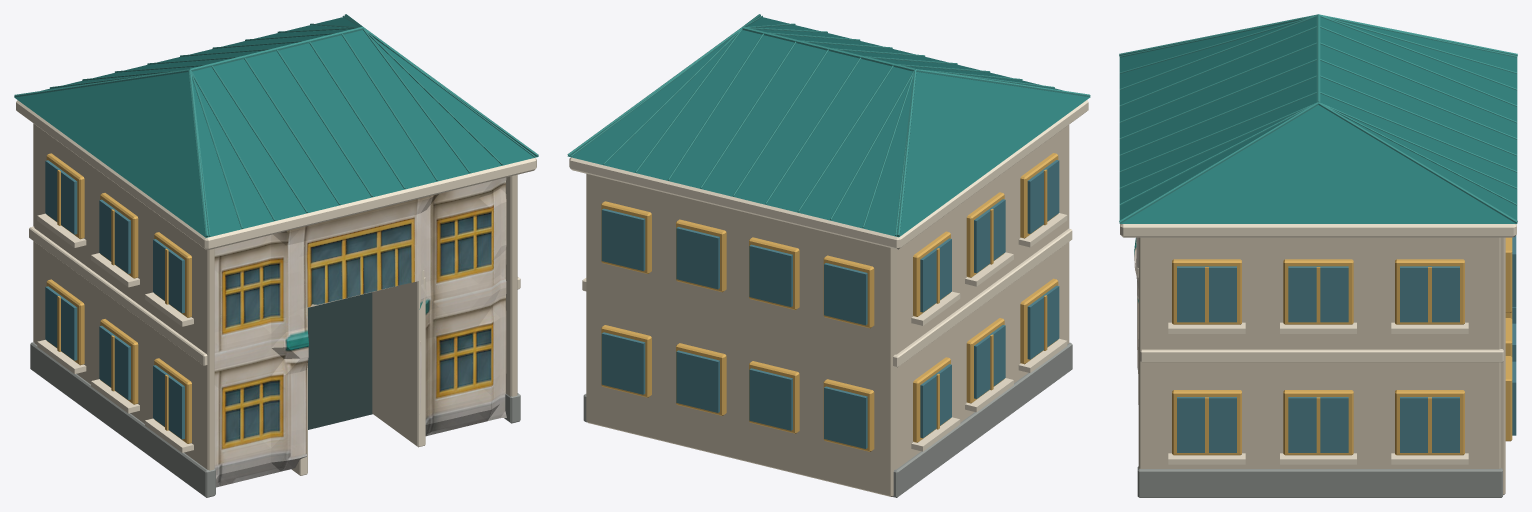
File: school.glb
3 renders of one model, left to right at view 1: azimuth 30°, elevation 25°; view 2: azimuth 150°, elevation 25°; view 3: azimuth 270°, elevation 25°, orthographic. The views are drawn at different scales.
Visible parts, largest first — view 1: SchoolArchitecture; view 2: SchoolArchitecture; view 3: SchoolArchitecture.
Boxes of the visible parts, box(x1,y1,x2,y2) form: SchoolArchitecture: box(14, 14, 538, 497); SchoolArchitecture: box(567, 14, 1090, 497); SchoolArchitecture: box(1119, 14, 1517, 497).
Size of the model in its own units: 1 by 1.01 by 1.
Materials: 9 (1 with a texture image).
